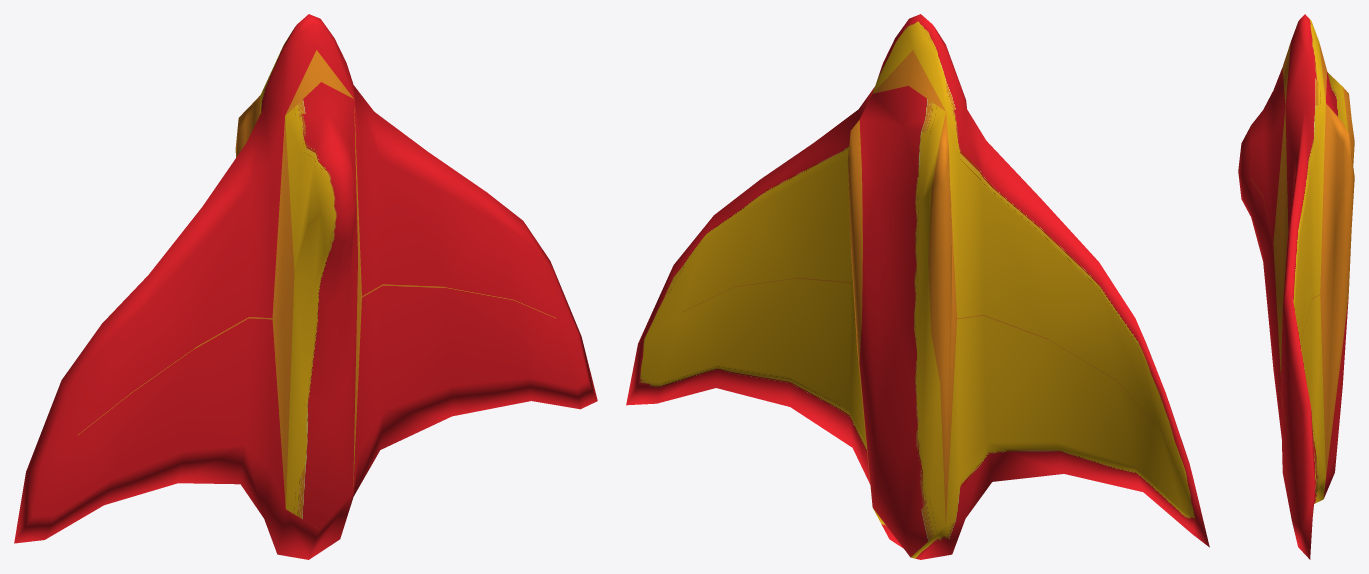
The model's file is fighter.FBX.
The picture shows the model from 3 angles, left to right: view 1: azimuth 30°, elevation 25°; view 2: azimuth 150°, elevation 25°; view 3: azimuth 270°, elevation 25°; orthographic projection. The views are drawn at different scales.
Visible parts, largest first — view 1: Box01; view 2: Box01; view 3: Box01.
Boxes of the visible parts, left/top/right/bottom form: Box01: left=14, top=14, right=597, bottom=559; Box01: left=626, top=14, right=1209, bottom=559; Box01: left=1238, top=14, right=1354, bottom=559.
Size of the model in its own units: 137 by 26.15 by 122.
Materials: 1 (1 with a texture image).
